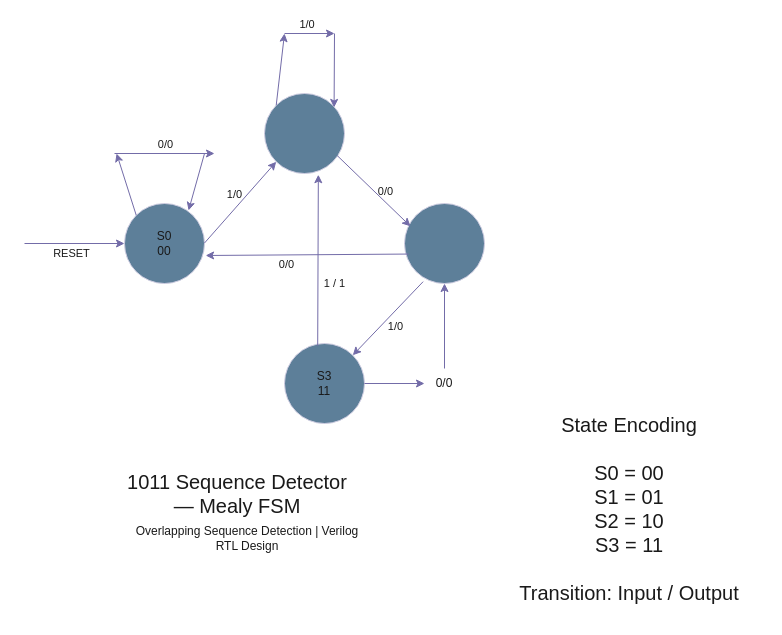
This 782x635 diagram has some shape labels left out. The centre of each missing label's shape, as x and y in pixels:
S1 01: the point at 304,133
S2 10: the point at 444,243
